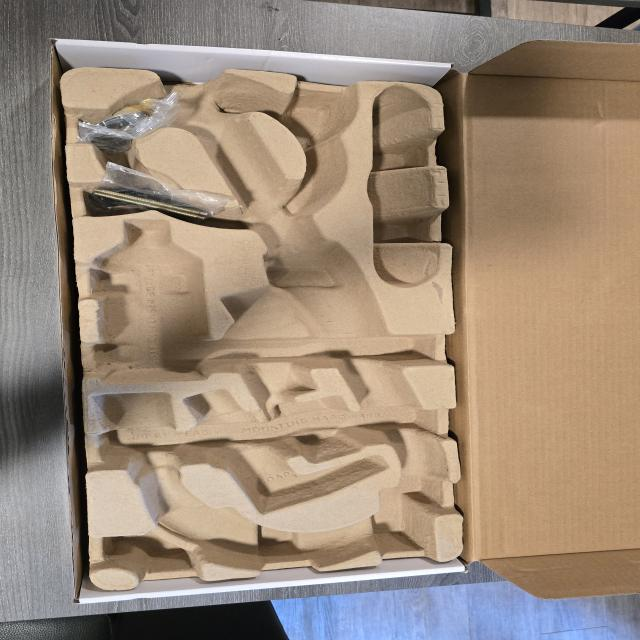1m: (92, 67, 445, 569)
2m: (182, 390, 387, 513)
3m: (92, 219, 204, 384)
4m: (368, 86, 439, 286)
5m: (283, 93, 356, 139)
6: (73, 90, 188, 155)
7: (83, 161, 238, 223)
